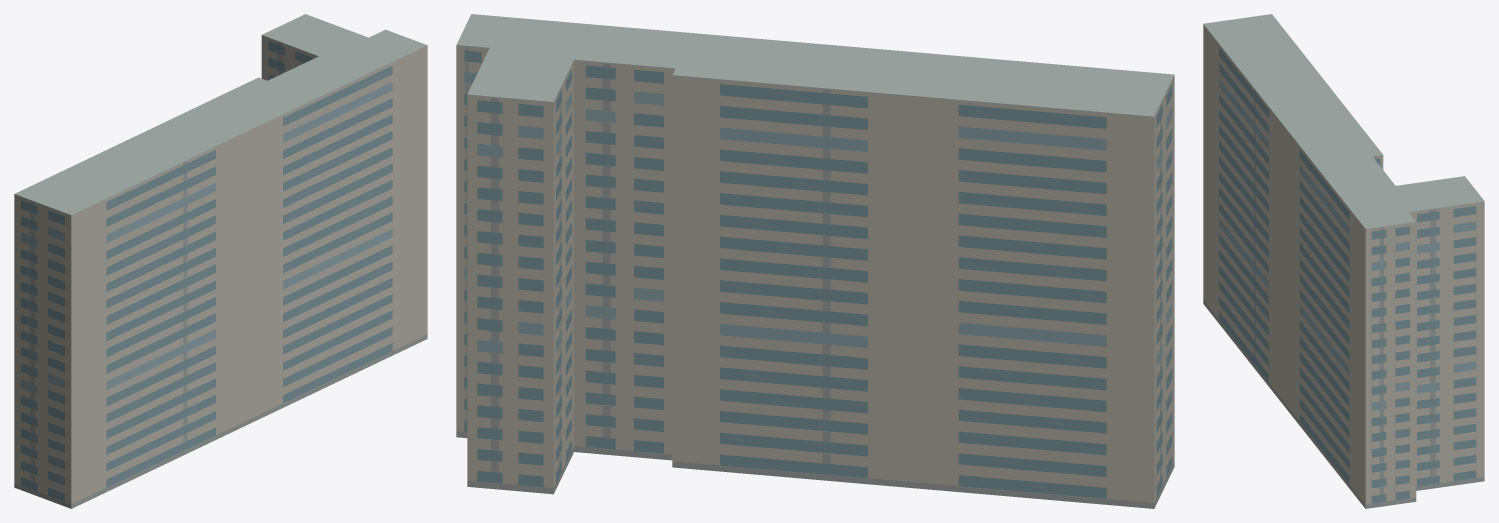
File: residential-2ccb9dfb-726d-4cb2-be61-61a4751e79c3.glb
3 views of the same model, side by side, from view 1: azimuth 30°, elevation 25°; view 2: azimuth 150°, elevation 25°; view 3: azimuth 270°, elevation 25° (orthographic). The views are drawn at different scales.
Visible parts, largest first — view 1: residential-2ccb9dfb-726d-4cb2-be61-61a4751e79c3.tmp; view 2: residential-2ccb9dfb-726d-4cb2-be61-61a4751e79c3.tmp; view 3: residential-2ccb9dfb-726d-4cb2-be61-61a4751e79c3.tmp.
Boxes of the visible parts, x1,y1,x2,y2 form: residential-2ccb9dfb-726d-4cb2-be61-61a4751e79c3.tmp: [14, 14, 427, 508]; residential-2ccb9dfb-726d-4cb2-be61-61a4751e79c3.tmp: [456, 14, 1174, 508]; residential-2ccb9dfb-726d-4cb2-be61-61a4751e79c3.tmp: [1203, 14, 1484, 508].
Size of the model in its own units: 104 by 63 by 57.44.
